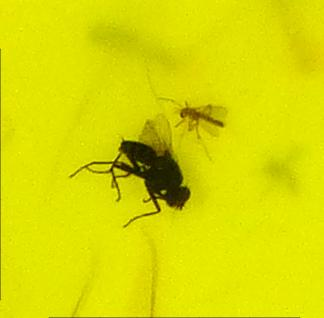Brachycera: (109, 140, 191, 210)
Nematocera: (180, 107, 225, 128)
